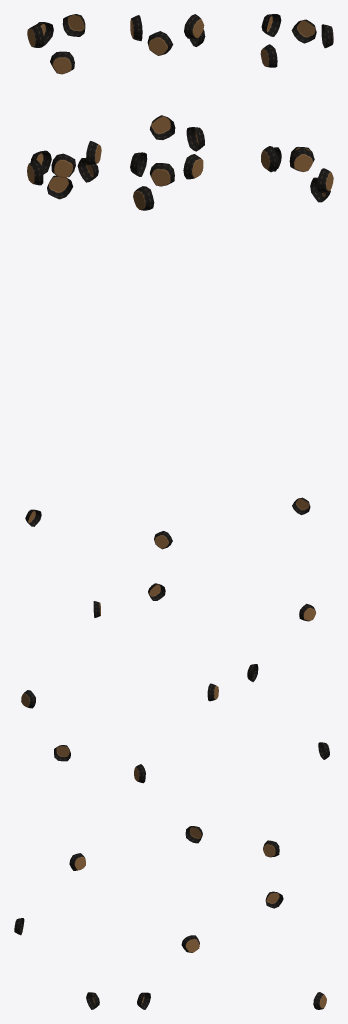
The model's file is Sitka_OldLarge_01_MediumPruned_Recent_LOD1.fbx.
3 views of the same model, side by side, from view 1: azimuth 30°, elevation 25°; view 2: azimuth 150°, elevation 25°; view 3: azimuth 330°, elevation 25° (orthographic). The views are drawn at different scales.
Visible parts, largest first — view 1: Sitka_OldLarge_01_MediumPruned_Recent_LOD1_Scars; view 2: Sitka_OldLarge_01_MediumPruned_Recent_LOD1_Scars; view 3: Sitka_OldLarge_01_MediumPruned_Recent_LOD1_Scars.
Part boxes in pixels (bbox=[...]): Sitka_OldLarge_01_MediumPruned_Recent_LOD1_Scars: bbox=[14, 14, 101, 1009]; Sitka_OldLarge_01_MediumPruned_Recent_LOD1_Scars: bbox=[130, 14, 218, 1009]; Sitka_OldLarge_01_MediumPruned_Recent_LOD1_Scars: bbox=[247, 14, 333, 1009].
Size of what is drawn, in the model's own units: 64.56 by 799 by 63.21.
Materials: 2 (2 with a texture image).
